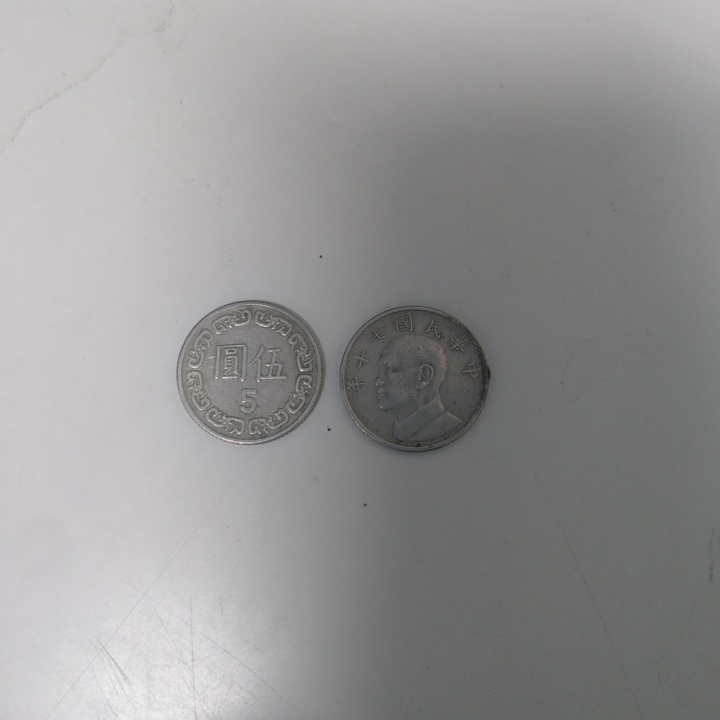5 dollar: (171, 301, 329, 449), (340, 307, 494, 454)
